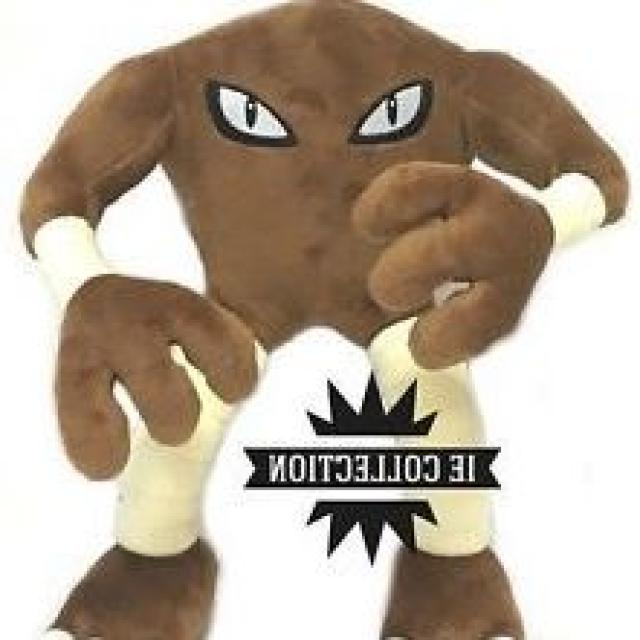Hitmonlee: (43, 9, 561, 640)
